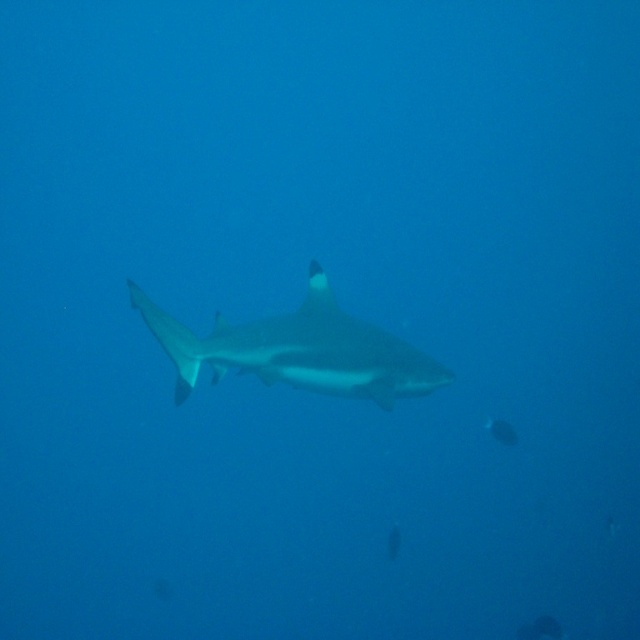Fish: (482, 418, 520, 441)
